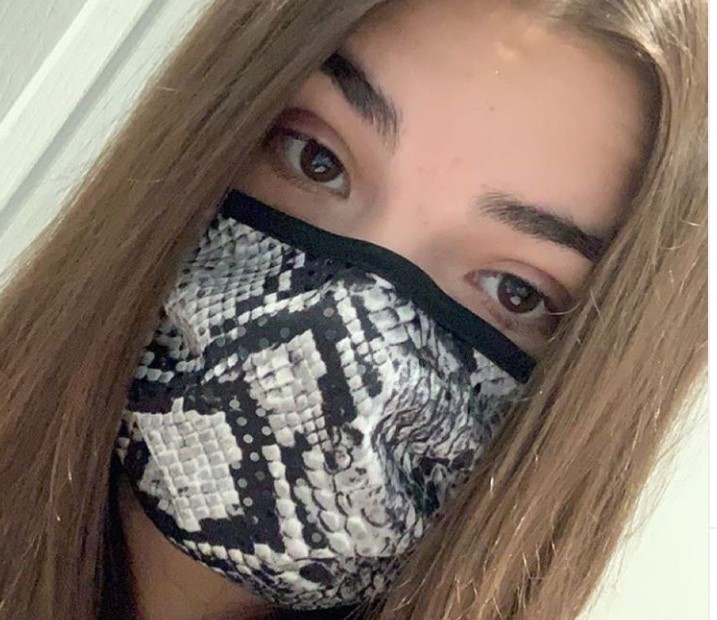face_with_mask: (91, 2, 693, 616)
